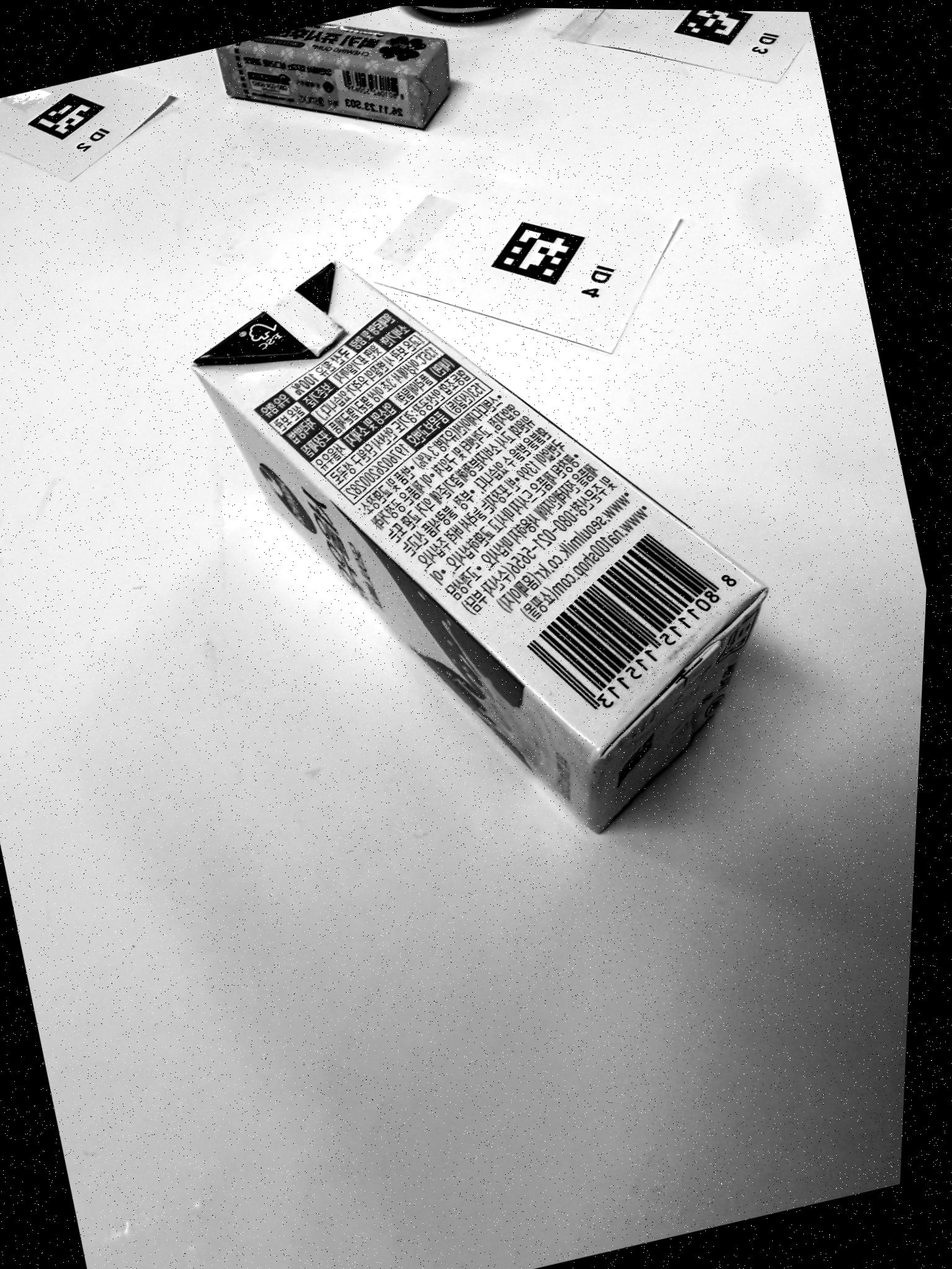milk_green: (195, 264, 762, 830)
